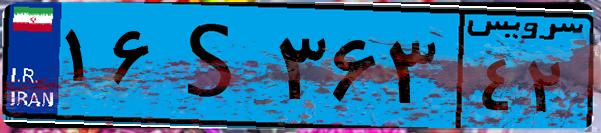1: (57, 26, 110, 100)
2: (525, 38, 570, 115)
3: (270, 28, 330, 110), (385, 28, 445, 110)
4: (475, 38, 525, 113)
6: (330, 28, 385, 110), (110, 28, 158, 98)
S: (158, 12, 270, 120)
